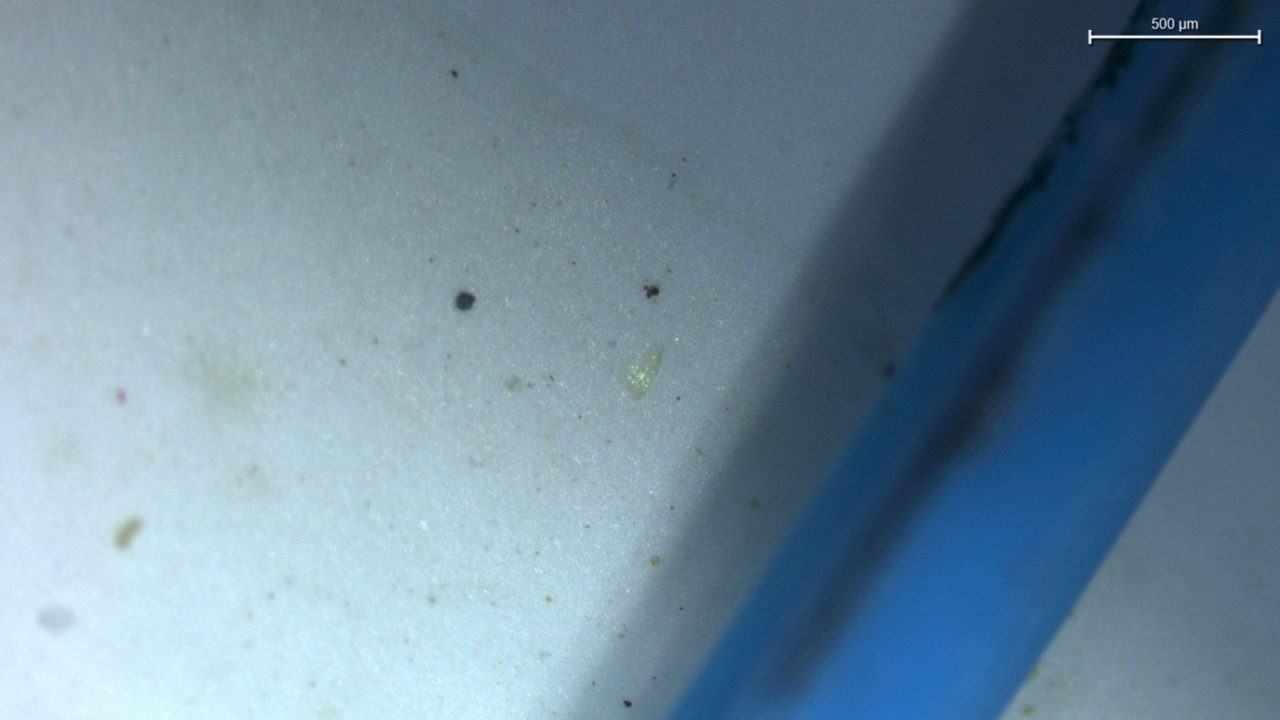microplastic_fragment: (624, 344, 663, 399)
